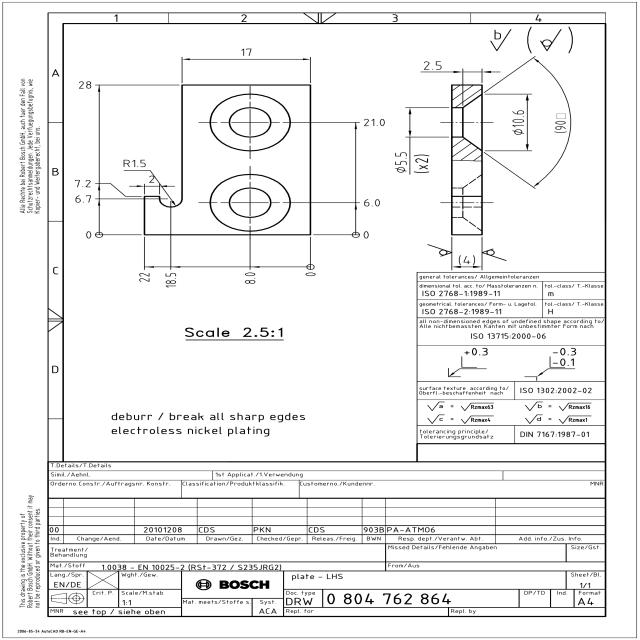dimension: (394, 151, 431, 174), (511, 110, 525, 136), (553, 112, 568, 134), (121, 159, 147, 168), (422, 60, 443, 71), (458, 254, 477, 266), (362, 118, 387, 127), (164, 272, 178, 288), (363, 198, 382, 208), (243, 272, 257, 285), (74, 194, 92, 204), (74, 179, 92, 188), (77, 80, 93, 90), (138, 272, 151, 283), (240, 47, 253, 57), (362, 230, 371, 240), (148, 174, 156, 184), (84, 230, 92, 240), (304, 272, 317, 277)
